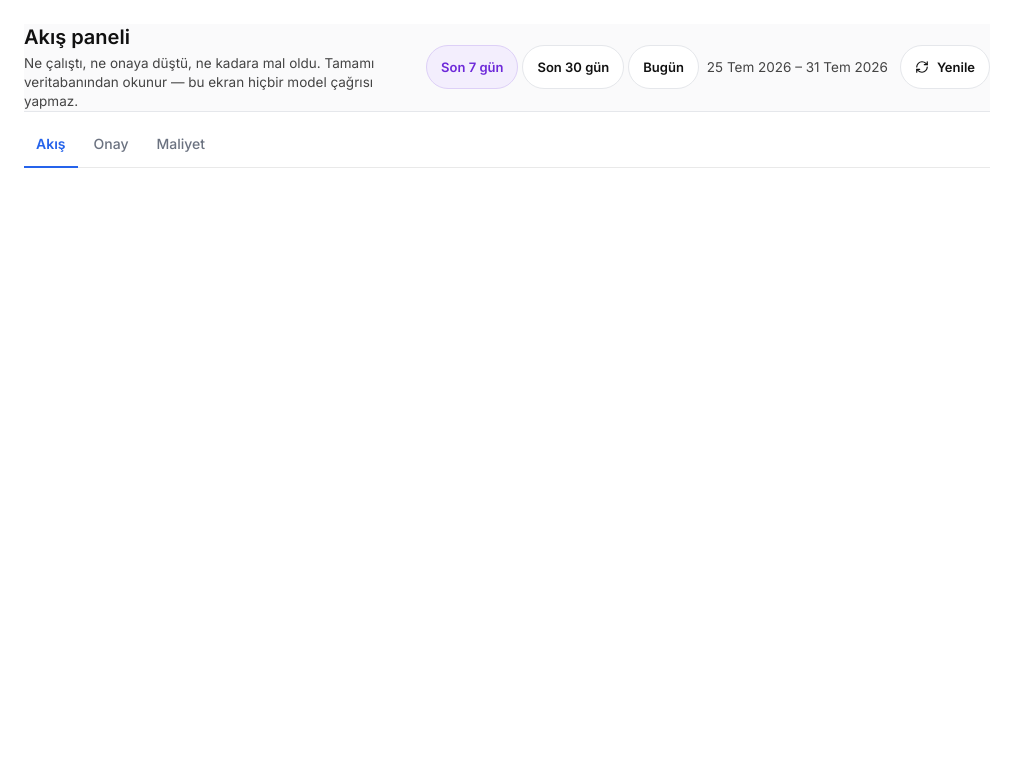
it: the_address_names_the_view_so_a_panel_tab_can_be_linked
Click the tab "Onay": [111, 146] box [82,124,140,168]
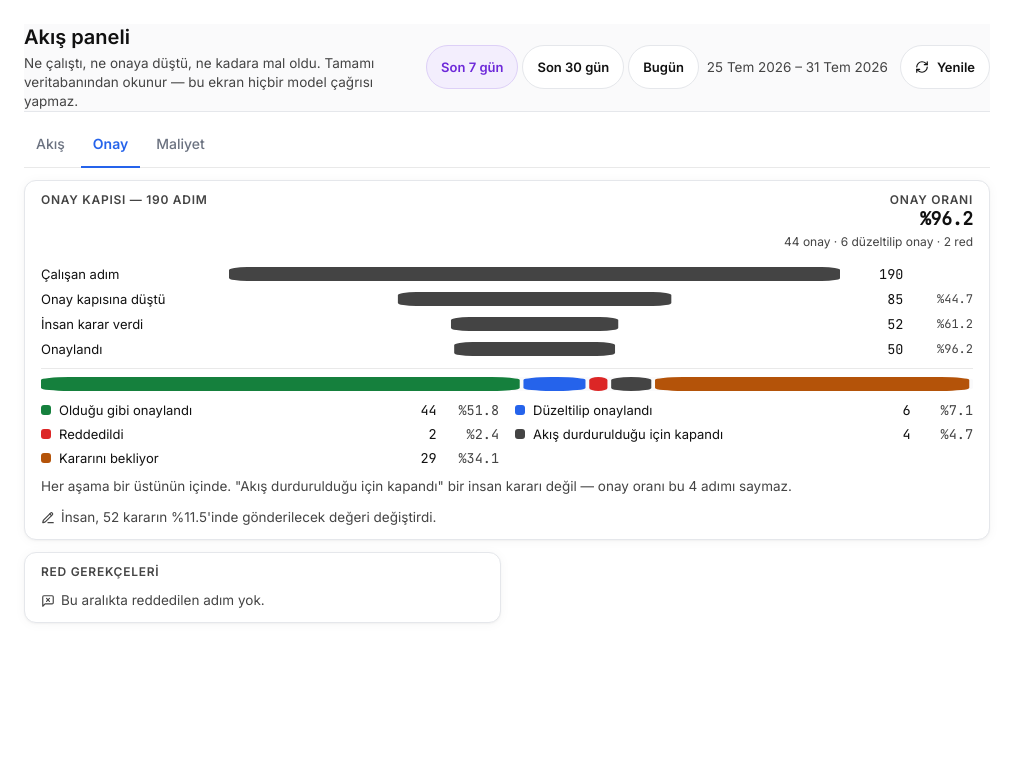
Expected: the element "Onay kapısı" is shown, [24,180,990,540]
